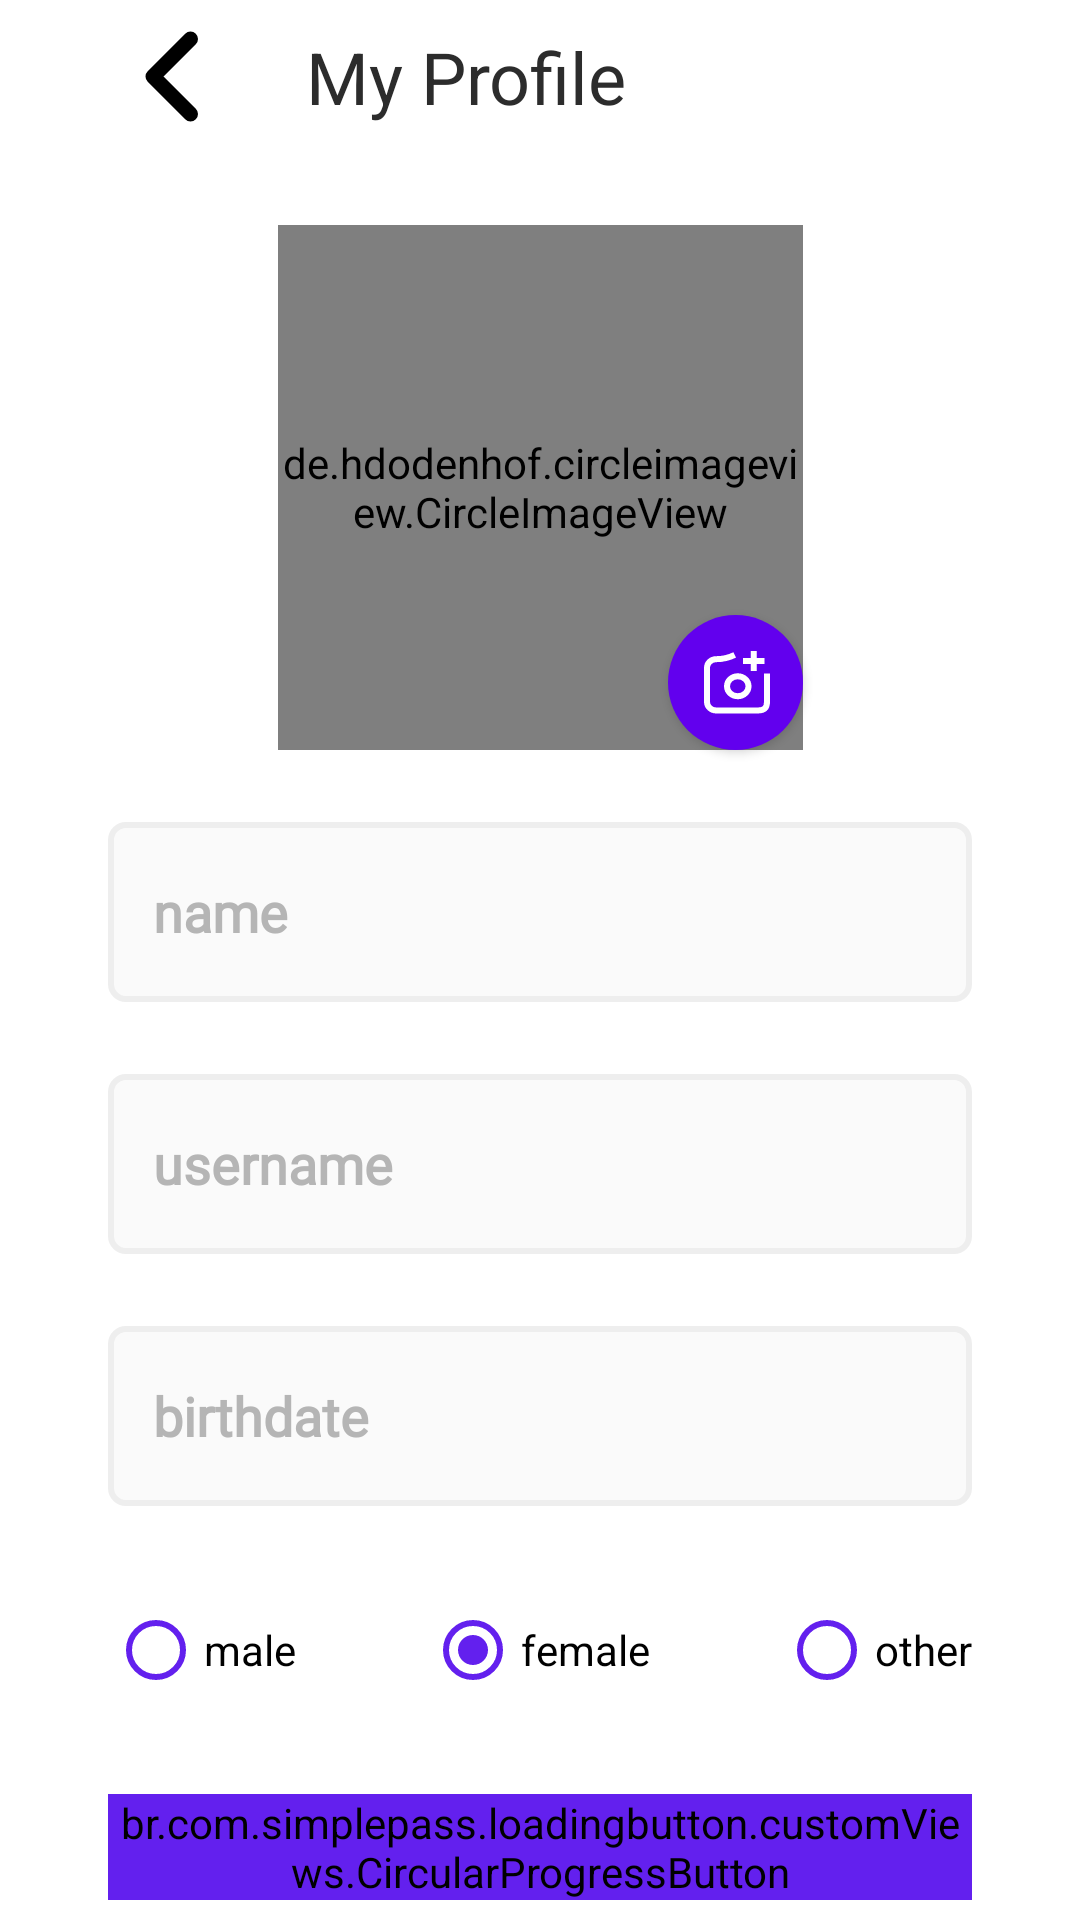

Where to tap for icons on this 1080px×1920px app screen, as (x=x, y=y):
camera add: (x=735, y=682)
return: (x=171, y=76)
